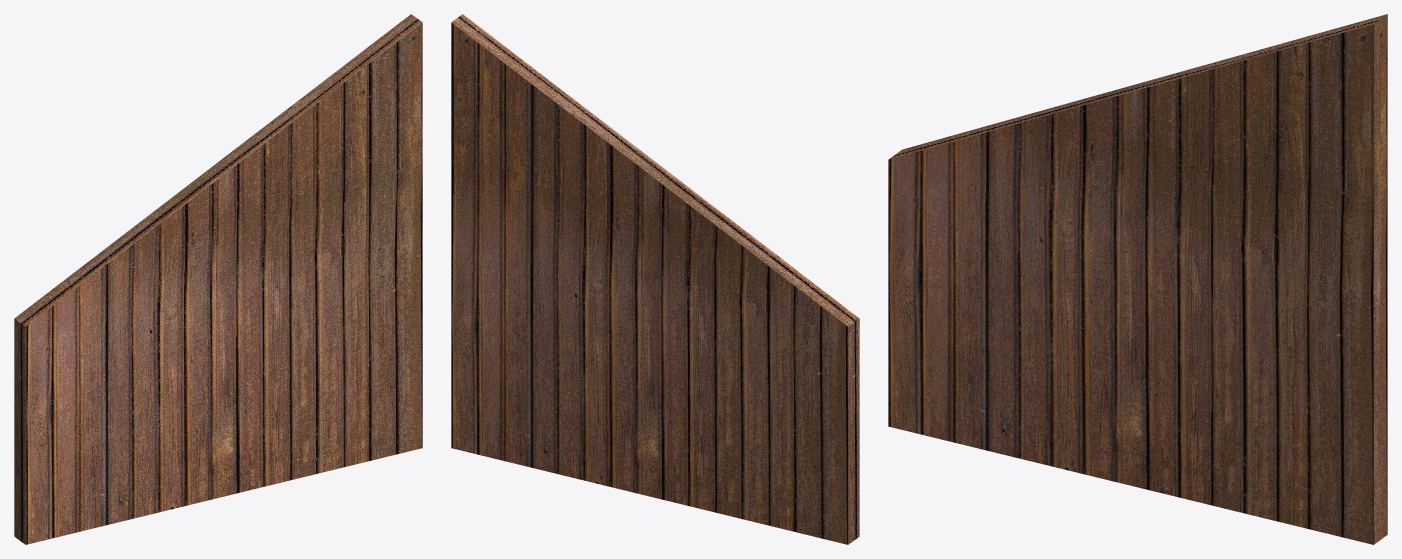
File: wall-int-topfiller-2.glb
3 renders of one model, left to right at view 1: azimuth 30°, elevation 25°; view 2: azimuth 150°, elevation 25°; view 3: azimuth 330°, elevation 25°, orthographic. The views are drawn at different scales.
Parts seen in each view (by area): view 1: wall-int-topfiller-2.001; view 2: wall-int-topfiller-2.001; view 3: wall-int-topfiller-2.001.
Boxes of the visible parts, x1,y1,x2,y2 form: wall-int-topfiller-2.001: (14,14,422,544); wall-int-topfiller-2.001: (451,14,859,544); wall-int-topfiller-2.001: (888,14,1387,544).
Bounding box in the file's own units: 2 × 2.05 × 0.1.
1 material, 1 textured.
